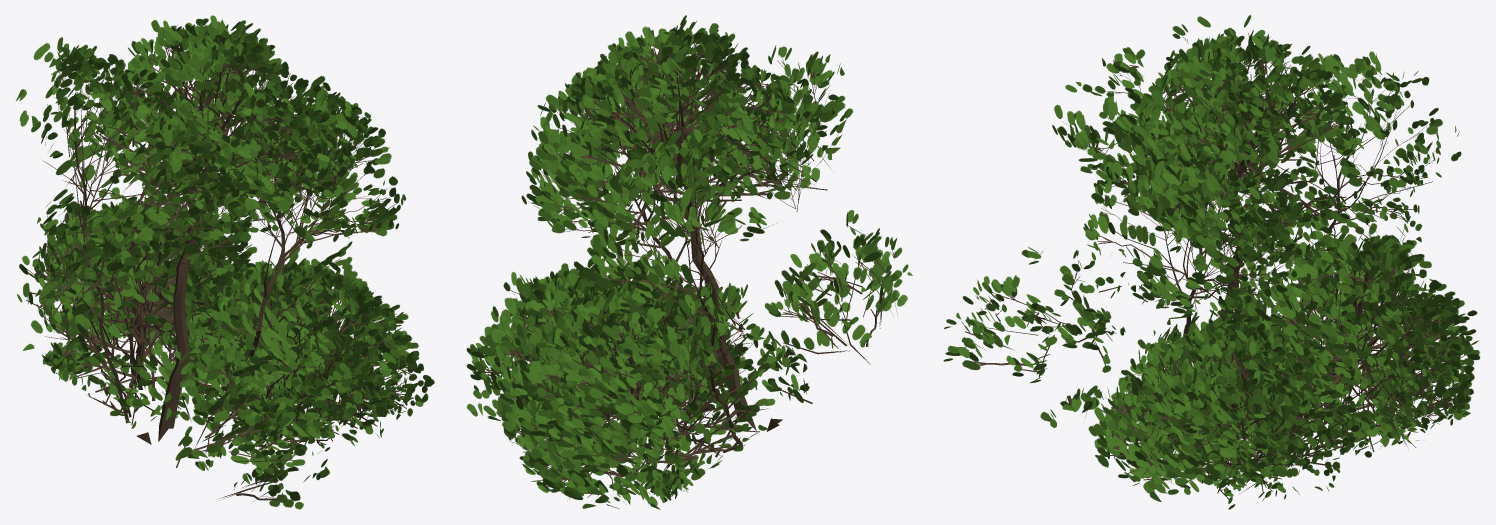
3 renders of one model, left to right at view 1: azimuth 30°, elevation 25°; view 2: azimuth 150°, elevation 25°; view 3: azimuth 270°, elevation 25°, orthographic. The views are drawn at different scales.
Visible parts, largest first — view 1: oak 01.001_trunk_Mat.001_0.462; view 2: oak 01.001_trunk_Mat.001_0.462; view 3: oak 01.001_trunk_Mat.001_0.462.
Boxes of the visible parts, x1,y1,x2,y2 form: oak 01.001_trunk_Mat.001_0.462: [15, 15, 434, 509]; oak 01.001_trunk_Mat.001_0.462: [466, 15, 912, 509]; oak 01.001_trunk_Mat.001_0.462: [943, 14, 1479, 509].
Bounding box in the file's own units: 3.79 × 4.92 × 5.93.
Materials: 2 (1 with a texture image).
